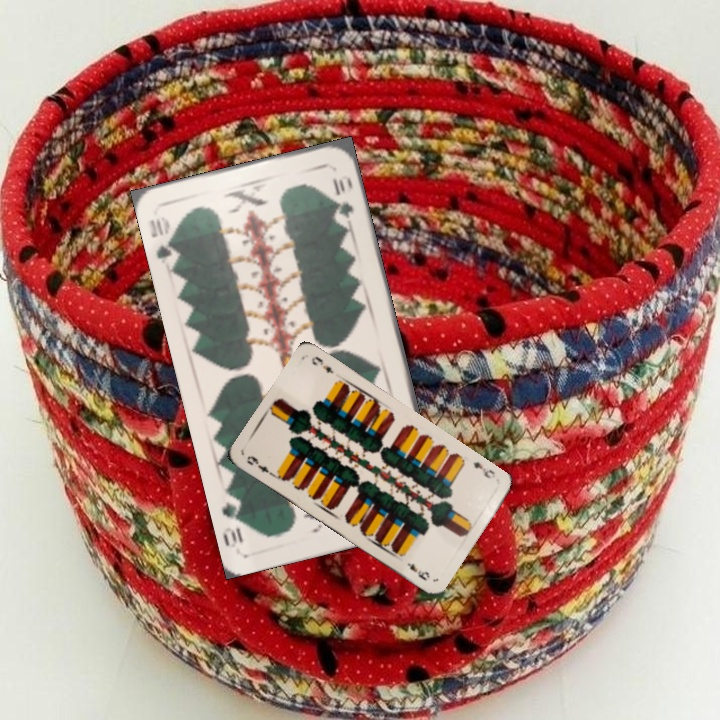E9: (243, 451, 277, 479), (469, 457, 497, 481)
G10: (145, 212, 181, 267)
